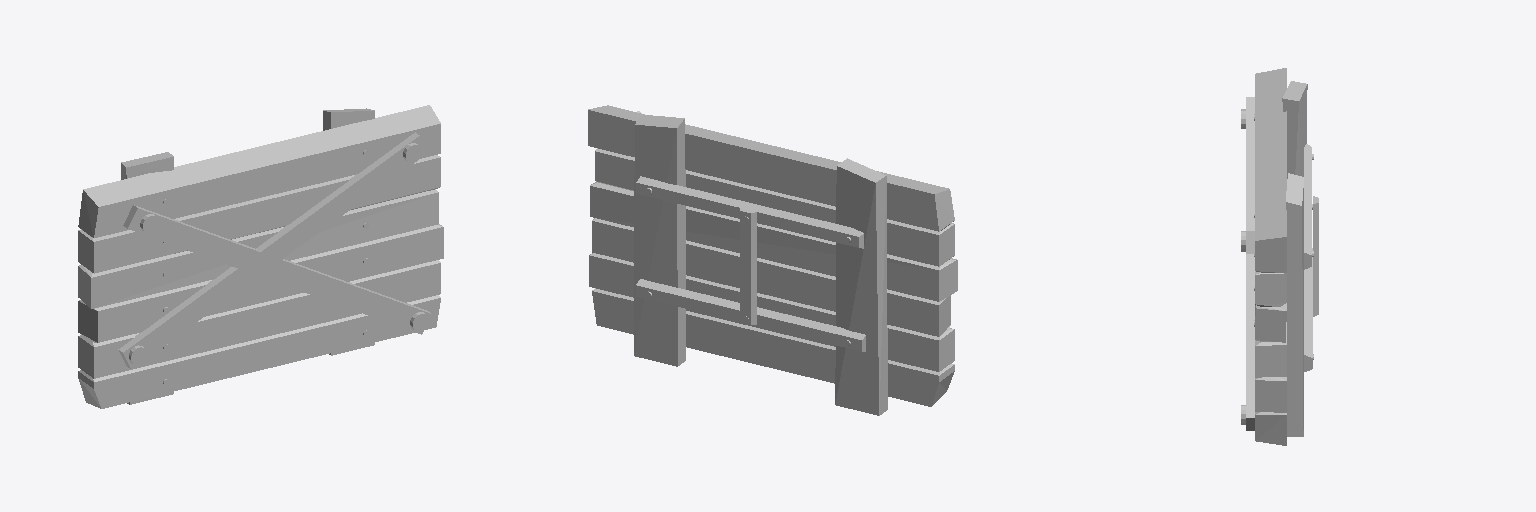
Rendered from woodshield.obj.
3 renders of one model, left to right at view 1: azimuth 30°, elevation 25°; view 2: azimuth 150°, elevation 25°; view 3: azimuth 270°, elevation 25°, orthographic.
Visible parts, largest first — view 1: shieldMesh; view 2: shieldMesh; view 3: shieldMesh.
Boxes of the visible parts, <box> form: shieldMesh: <box>78,105,443,408</box>; shieldMesh: <box>588,105,957,415</box>; shieldMesh: <box>1241,68,1318,445</box>.
Size of the model in its own units: 2.61 by 1.71 by 0.5004.